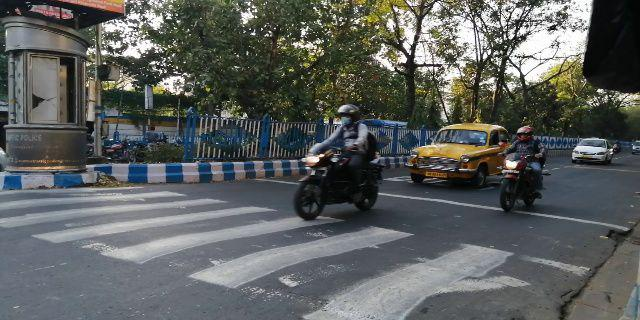Car: (408, 118, 504, 189), (566, 134, 614, 170)
Motorbike: (288, 103, 388, 223), (497, 125, 547, 222)
